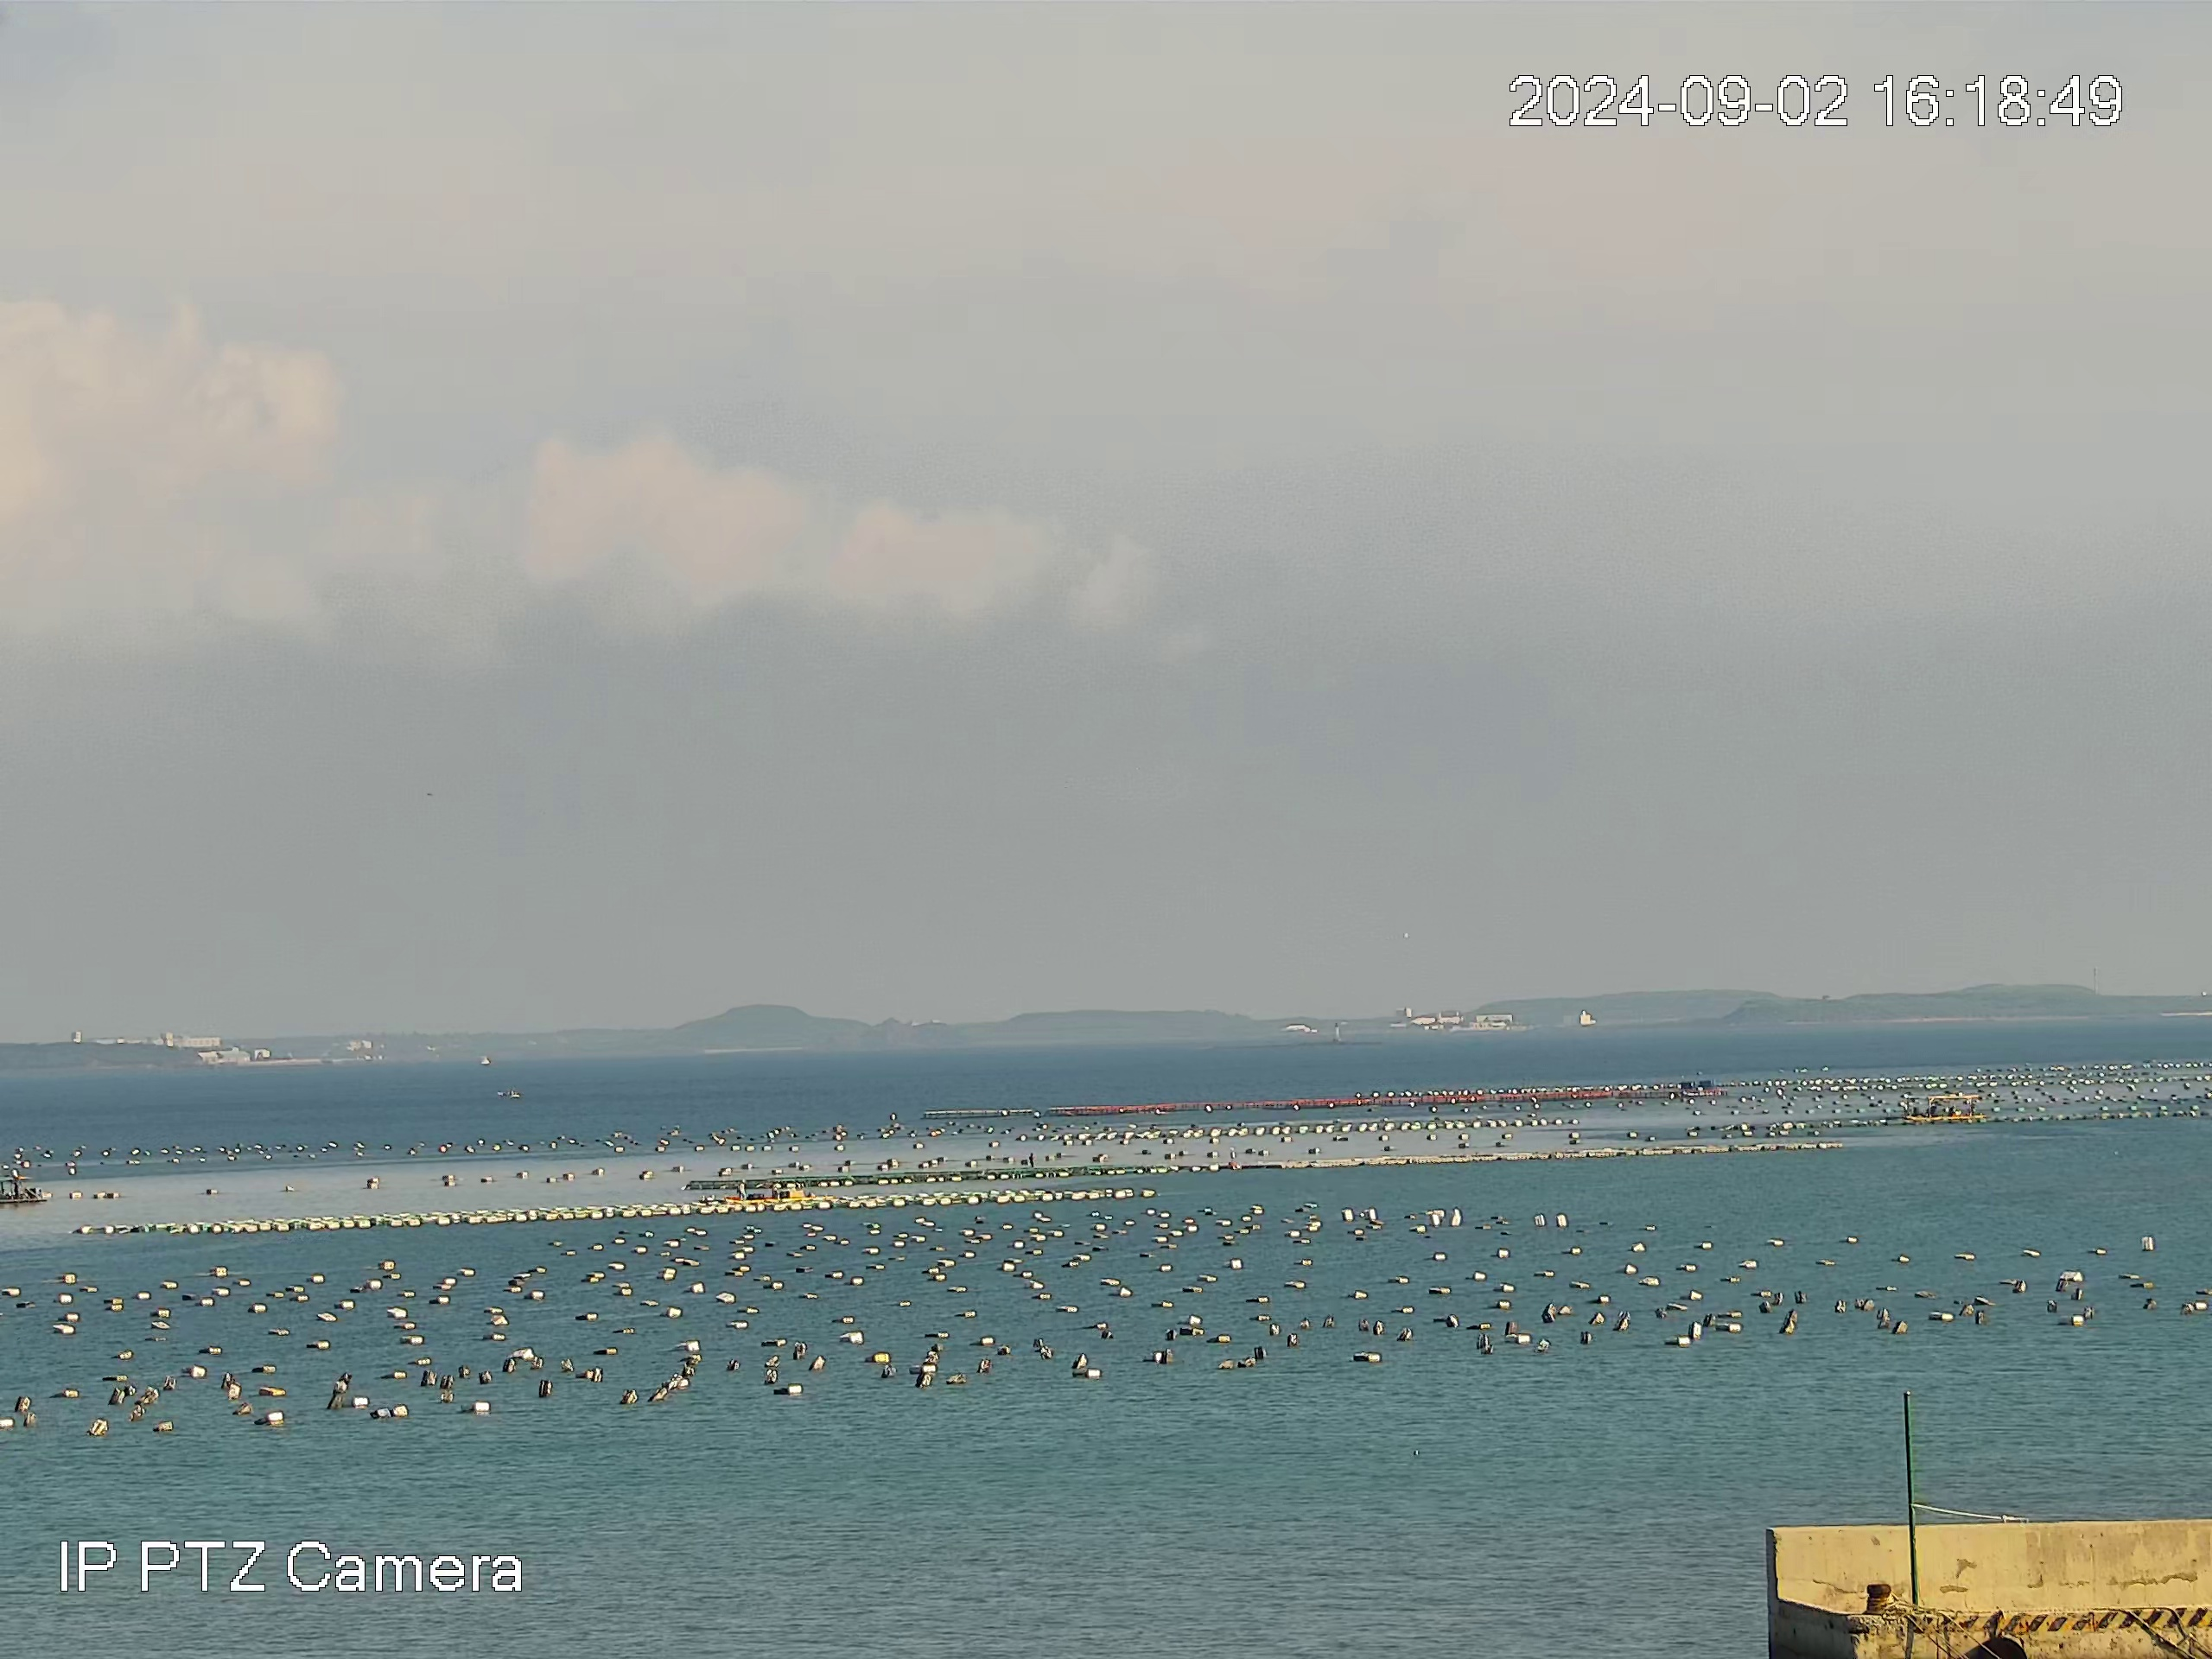boat: (1898, 1093, 1987, 1126), (723, 1178, 813, 1204), (0, 1168, 49, 1206)
